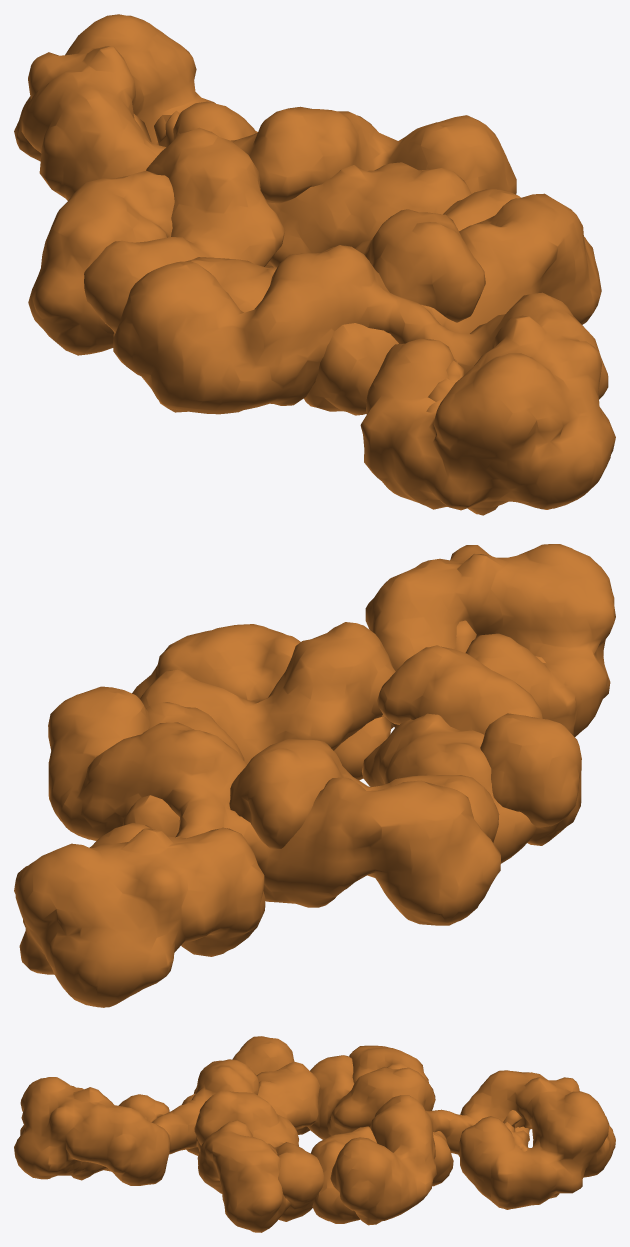
The model's file is iIgA_Antibody_2mer.dae.
The picture shows the model from 3 angles, top to bottom: view 1: azimuth 30°, elevation 25°; view 2: azimuth 150°, elevation 25°; view 3: azimuth 270°, elevation 25°; orthographic projection. The views are drawn at different scales.
Visible parts, largest first — view 1: Metaball.5, Metaball.2, Metaball.3, Metaball.6, Metaball.4, Metaball; view 2: Metaball.2, Metaball.5, Metaball.6, Metaball.3; view 3: Metaball.2, Metaball.5, Metaball.6, Metaball.3, Metaball.
Boxes of the visible parts, x1,y1,x2,y2 form: Metaball.5: (113, 193, 615, 515); Metaball.2: (14, 14, 516, 355); Metaball.3: (84, 127, 471, 336); Metaball.6: (187, 189, 520, 415); Metaball.4: (426, 360, 464, 412); Metaball: (133, 110, 179, 147); Metaball.2: (14, 686, 500, 1007); Metaball.5: (132, 544, 615, 845); Metaball.6: (140, 622, 536, 863); Metaball.3: (122, 702, 499, 877); Metaball.2: (330, 1045, 615, 1225); Metaball.5: (14, 1036, 294, 1232); Metaball.6: (181, 1061, 324, 1221); Metaball.3: (307, 1055, 453, 1223); Metaball: (503, 1110, 529, 1151).
Bounding box in the file's own units: 157 × 59.53 × 294.
